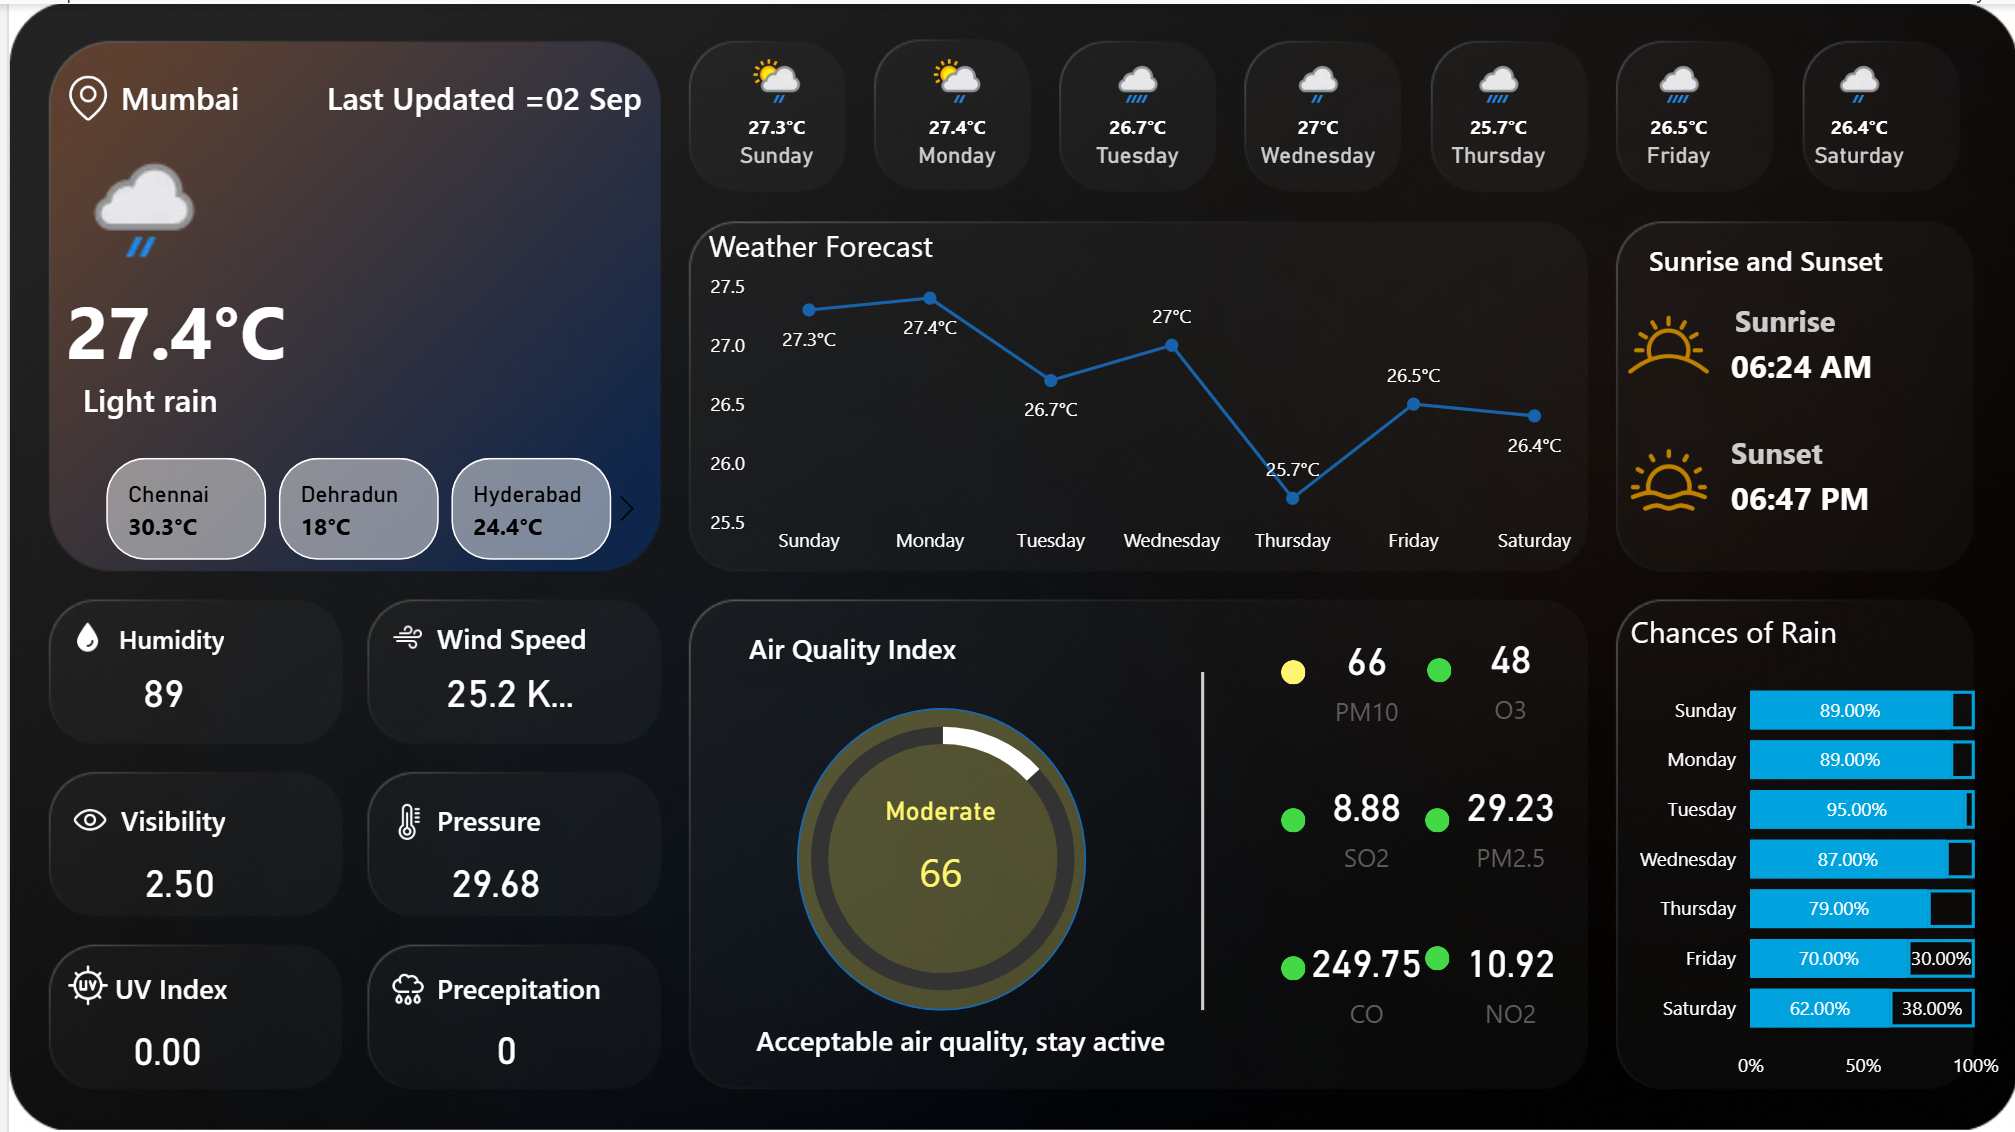

What the dashboard file says about the page in this screenshot:
{"tool":"powerbi","page":{"name":"Page 1","canvas":[1280,720],"ordinal":0},"visuals":[{"type":"advancedSlicerVisual","fields":{"Values":["Locations.location.name"]},"box":[36.7,284.8,372.1,75],"z":0},{"type":"shape","box":[34.4,175.9,144.1,54.8],"z":1000},{"type":"shape","box":[36.7,229.7,359.8,44.4],"z":2000},{"type":"shape","box":[72,33.7,151.6,52.1],"z":3000},{"type":"shape","box":[192.9,33.7,215.9,52.1],"z":4000},{"type":"image","box":[24.5,41.3,52.1,38.3],"z":5000},{"type":"cardVisual","fields":{"Data":["Min(Current.current.condition.icon)"]},"box":[24.5,61.2,124,124],"z":6000},{"type":"shape","box":[71.4,498.5,168.3,43.3],"z":7000},{"type":"image","box":[31.9,388.8,37,29.3],"z":8000},{"type":"shape","box":[70.1,382.5,168.3,43.3],"z":9000},{"type":"image","box":[34.4,502.3,34.4,35.7],"z":10000},{"type":"image","box":[235.9,388.8,37,29.3],"z":11000},{"type":"shape","box":[272.8,382.5,168.3,43.3],"z":12000},{"type":"image","box":[31.9,605.6,37,39.5],"z":13000},{"type":"shape","box":[67.6,605.6,168.3,43.3],"z":14000},{"type":"image","box":[237.1,504.9,35.7,33.1],"z":15000},{"type":"shape","box":[272.8,498.5,168.3,43.3],"z":16000},{"type":"image","box":[237.1,606.9,34.4,42.1],"z":17000},{"type":"shape","box":[272.8,605.6,168.3,43.3],"z":18000},{"type":"card","fields":{"Values":["Sum(Current.current.humidity)"]},"box":[52.7,417.6,92.7,41.3],"z":19000},{"type":"card","fields":{"Values":["_Measures.Wind_Speed"]},"box":[272.2,417.6,92.7,41.3],"z":20000},{"type":"card","fields":{"Values":["Sum(Current.current.pressure_in)"]},"box":[263.7,537.4,92.7,44.2],"z":21000},{"type":"card","fields":{"Values":["Sum(Current.current.precip_in)"]},"box":[270.8,645.7,94.1,42.8],"z":22000},{"type":"card","fields":{"Values":["Sum(Current.current.vis_km)"]},"box":[62.7,537.4,92.7,44.2],"z":23000},{"type":"card","fields":{"Values":["Sum(Current.current.uv)"]},"box":[42.8,645.7,115.5,44.2],"z":24000},{"type":"advancedSlicerVisual","fields":{"Values":["Forcast_byDay.Day_Name"]},"box":[430.5,24.2,811,98.4],"z":25000},{"type":"lineChart","title":"Weather Forecast","fields":{"Y":["Sum(Forcast_byDay.forecast.forecastday.day.avgtemp_c)"],"Category":["Forcast_byDay.Day_Name"]},"box":[441.4,141.4,567.1,218.6],"z":26000},{"type":"shape","box":[1044.8,141.1,168.2,44.2],"z":27000},{"type":"shape","box":[1097.6,202.4,144,55.6],"z":28000},{"type":"shape","box":[1097.6,286.5,144,55.6],"z":29000},{"type":"shape","box":[1100.4,173.9,144,55.6],"z":30000},{"type":"shape","box":[1097.6,258,144,55.6],"z":31000},{"type":"image","box":[1029.1,273.7,58.4,58.4],"z":32000},{"type":"image","box":[1019.2,175.3,78.4,82.7],"z":33000},{"type":"hundredPercentStackedBarChart","title":"Chances of Rain","fields":{"Y":["Sum(Forcast_byDay.forecast.forecastday.day.daily_chance_of_rain)","Current.Left_Value_Rain"],"Category":["Forcast_byDay.Day_Name"]},"box":[1028.6,387.1,244.3,307.1],"z":34000},{"type":"shape","box":[471.4,382.9,168.6,55.7],"z":35000},{"type":"card","fields":{"Values":["Sum(Current.current.air_quality.pm10)"]},"box":[820,388.6,91.4,80],"z":36000},{"type":"card","fields":{"Values":["Sum(Current.current.air_quality.o3)"]},"box":[911.4,387.9,91.4,80],"z":37000},{"type":"card","fields":{"Values":["Sum(Current.current.air_quality.so2)"]},"box":[820,481.4,91.4,80],"z":38000},{"type":"card","fields":{"Values":["Sum(Current.current.air_quality.pm2_5)"]},"box":[911.4,481.4,91.4,80],"z":39000},{"type":"card","fields":{"Values":["Sum(Current.current.air_quality.no2)"]},"box":[911.4,581.4,91.4,80],"z":40000},{"type":"card","fields":{"Values":["Sum(Current.current.air_quality.co)"]},"box":[820,581.4,91.4,80],"z":41000},{"type":"shape","box":[811.4,418.6,15.7,15.7],"z":42000},{"type":"shape","box":[811.4,607.1,15.7,15.7],"z":43000},{"type":"shape","box":[811.4,512.9,15.7,15.7],"z":44000},{"type":"shape","box":[904.3,417.1,15.7,15.7],"z":45000},{"type":"shape","box":[902.9,512.9,15.7,15.7],"z":46000},{"type":"shape","box":[902.9,600,15.7,15.7],"z":47000},{"type":"shape","box":[685.7,425.7,150,215.7],"z":48000},{"type":"shape","box":[502.9,448.6,184.3,192.9],"z":49000},{"type":"donutChart","fields":{"Y":["Sum(Current.current.air_quality.pm10)","_Measures.Left_value_PM10"]},"box":[460,434.3,270,220],"z":50000},{"type":"card","fields":{"Values":["Sum(Current.current.air_quality.pm10)"]},"box":[548.6,504.3,91.4,80],"z":51000},{"type":"shape","box":[460,632.2,297.8,55.6],"z":52000}]}

Visuals, with their boxes in screenshot pixels (x1, y1, x2, y2), scaled from the page's 1280x720 canvas onto the 2015x1132 screenshot:
advancedSlicerVisual - Locations.location.name: box=[58, 448, 644, 566]
shape: box=[54, 277, 281, 363]
shape: box=[58, 361, 624, 431]
shape: box=[113, 53, 352, 135]
shape: box=[304, 53, 644, 135]
image: box=[39, 65, 121, 125]
cardVisual - Min(Current.current.condition.icon): box=[39, 96, 234, 291]
shape: box=[112, 784, 377, 852]
image: box=[50, 611, 108, 657]
shape: box=[110, 601, 375, 669]
image: box=[54, 790, 108, 846]
image: box=[371, 611, 430, 657]
shape: box=[429, 601, 694, 669]
image: box=[50, 952, 108, 1014]
shape: box=[106, 952, 371, 1020]
image: box=[373, 794, 429, 846]
shape: box=[429, 784, 694, 852]
image: box=[373, 954, 427, 1020]
shape: box=[429, 952, 694, 1020]
card - Sum(Current.current.humidity): box=[83, 657, 229, 721]
card - _Measures.Wind_Speed: box=[429, 657, 574, 721]
card - Sum(Current.current.pressure_in): box=[415, 845, 561, 914]
card - Sum(Current.current.precip_in): box=[426, 1015, 574, 1082]
card - Sum(Current.current.vis_km): box=[99, 845, 245, 914]
card - Sum(Current.current.uv): box=[67, 1015, 249, 1085]
advancedSlicerVisual - Forcast_byDay.Day_Name: box=[678, 38, 1954, 193]
"Weather Forecast" lineChart: box=[695, 222, 1588, 566]
shape: box=[1645, 222, 1910, 291]
shape: box=[1728, 318, 1955, 406]
shape: box=[1728, 450, 1955, 538]
shape: box=[1732, 273, 1959, 361]
shape: box=[1728, 406, 1955, 493]
image: box=[1620, 430, 1712, 522]
image: box=[1604, 276, 1728, 406]
"Chances of Rain" hundredPercentStackedBarChart: box=[1619, 609, 2004, 1091]
shape: box=[742, 602, 1008, 690]
card - Sum(Current.current.air_quality.pm10): box=[1291, 611, 1435, 737]
card - Sum(Current.current.air_quality.o3): box=[1435, 610, 1579, 736]
card - Sum(Current.current.air_quality.so2): box=[1291, 757, 1435, 883]
card - Sum(Current.current.air_quality.pm2_5): box=[1435, 757, 1579, 883]
card - Sum(Current.current.air_quality.no2): box=[1435, 914, 1579, 1040]
card - Sum(Current.current.air_quality.co): box=[1291, 914, 1435, 1040]
shape: box=[1277, 658, 1302, 683]
shape: box=[1277, 954, 1302, 979]
shape: box=[1277, 806, 1302, 831]
shape: box=[1424, 656, 1448, 680]
shape: box=[1421, 806, 1446, 831]
shape: box=[1421, 943, 1446, 968]
shape: box=[1079, 669, 1316, 1008]
shape: box=[792, 705, 1082, 1009]
donutChart - Sum(Current.current.air_quality.pm10) x _Measures.Left_value_PM10: box=[724, 683, 1149, 1029]
card - Sum(Current.current.air_quality.pm10): box=[864, 793, 1008, 919]
shape: box=[724, 994, 1193, 1081]
